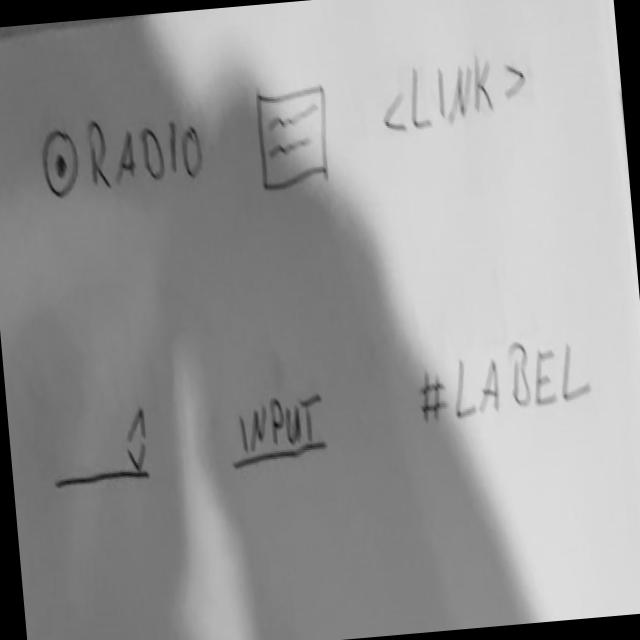input: (223, 384, 334, 476)
label: (411, 333, 597, 435)
link: (378, 45, 533, 143)
number-input: (42, 399, 155, 499)
radio: (37, 106, 210, 209)
textarea: (252, 83, 336, 198)
